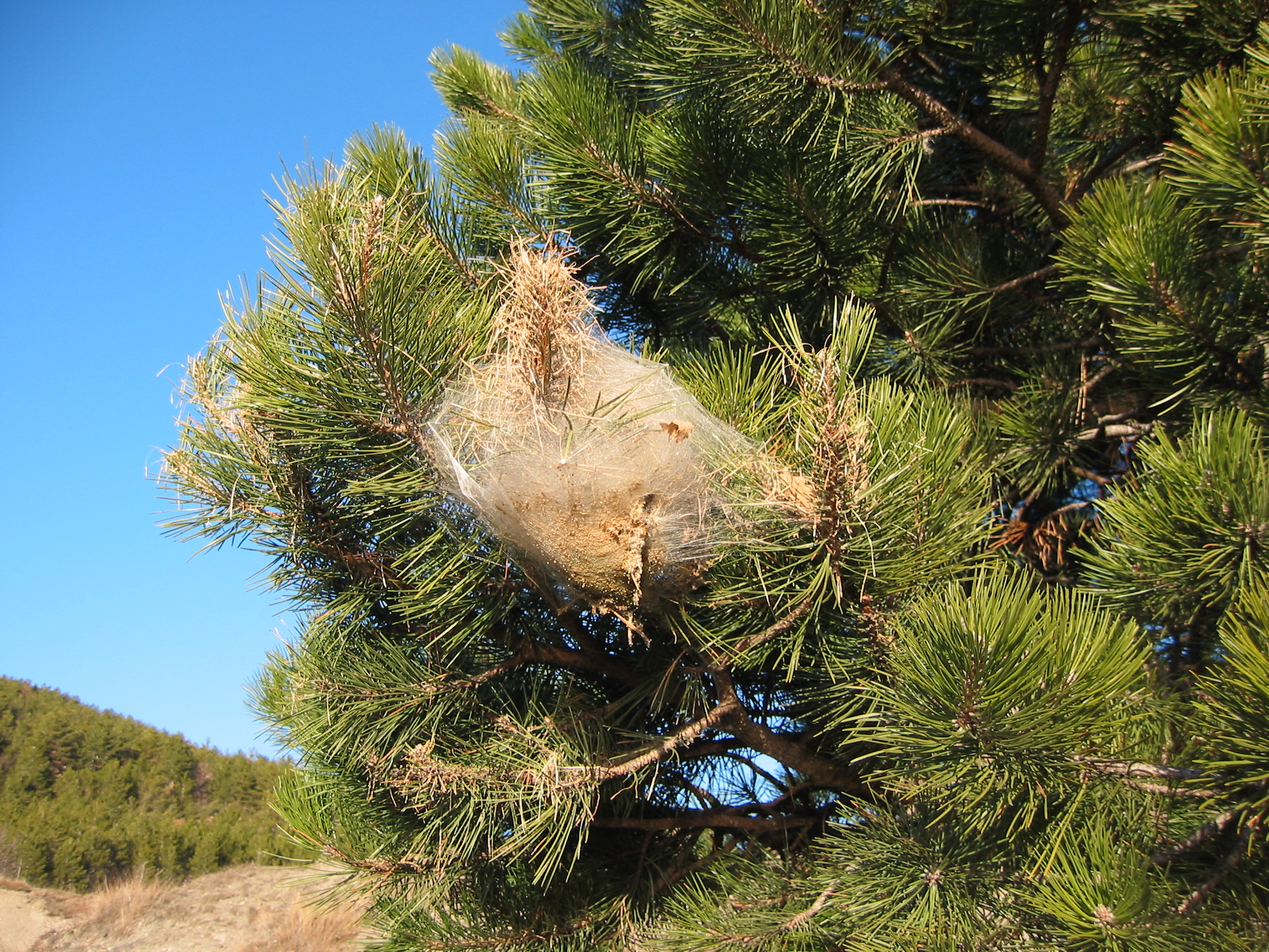thaumatopoea pityocampa jajno gnijezdo: (374, 233, 786, 631)
